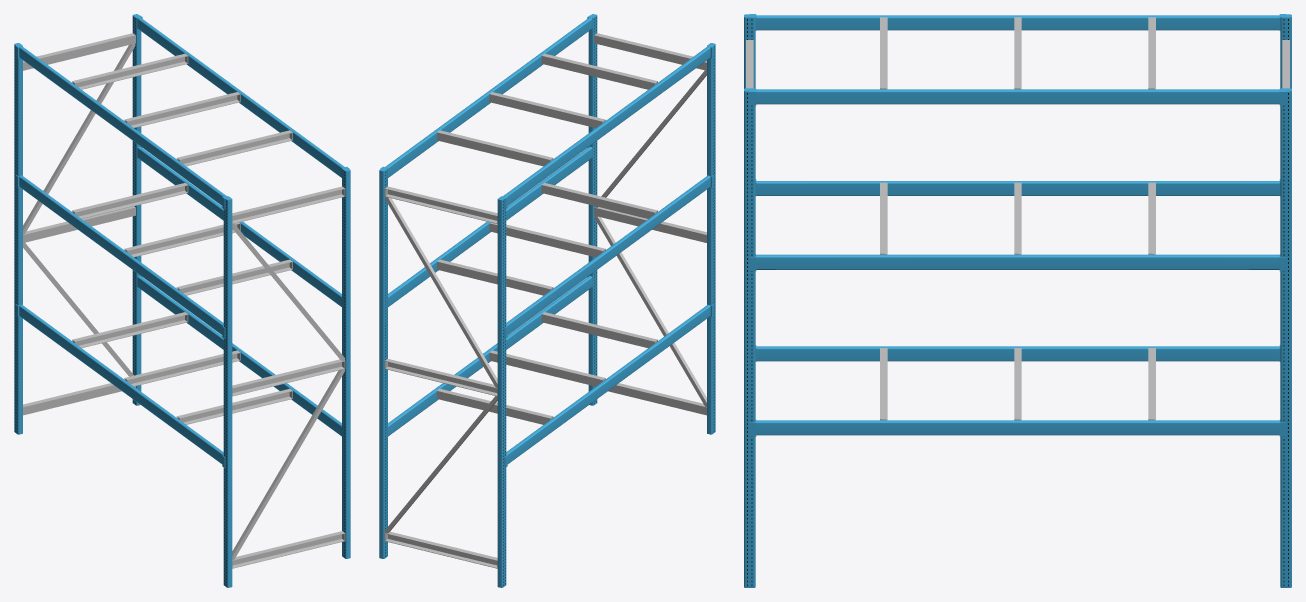
Rendered from ShelvingRackC.fbx.
3 views of the same model, side by side, from view 1: azimuth 30°, elevation 25°; view 2: azimuth 150°, elevation 25°; view 3: azimuth 270°, elevation 25° (orthographic). The views are drawn at different scales.
Parts seen in each view (by area): view 1: ShelvingRackB01; view 2: ShelvingRackB01; view 3: ShelvingRackB01.
Part boxes in pixels (x1=…): ShelvingRackB01: x1=14, y1=14, x2=350, y2=587; ShelvingRackB01: x1=379, y1=14, x2=715, y2=587; ShelvingRackB01: x1=744, y1=14, x2=1291, y2=587.
Bounding box in the file's own units: 1.23 × 3.66 × 3.66.
